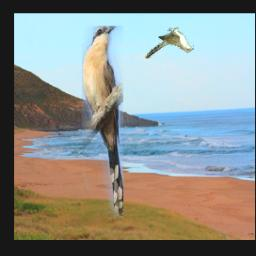Cuckoo: (82, 27, 123, 217), (145, 28, 194, 59)
